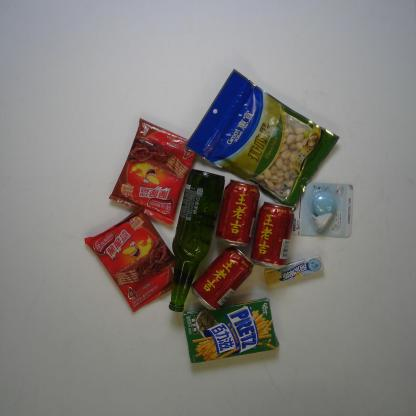Alcohol: (167, 167, 225, 314)
Candy: (263, 252, 326, 288)
Dessert: (83, 206, 181, 313), (106, 117, 198, 225), (182, 297, 281, 365)
Dried Fruit: (182, 69, 341, 211)
Drink: (190, 248, 254, 313), (214, 178, 261, 246), (250, 200, 295, 271)
Stationery: (289, 176, 354, 241)
